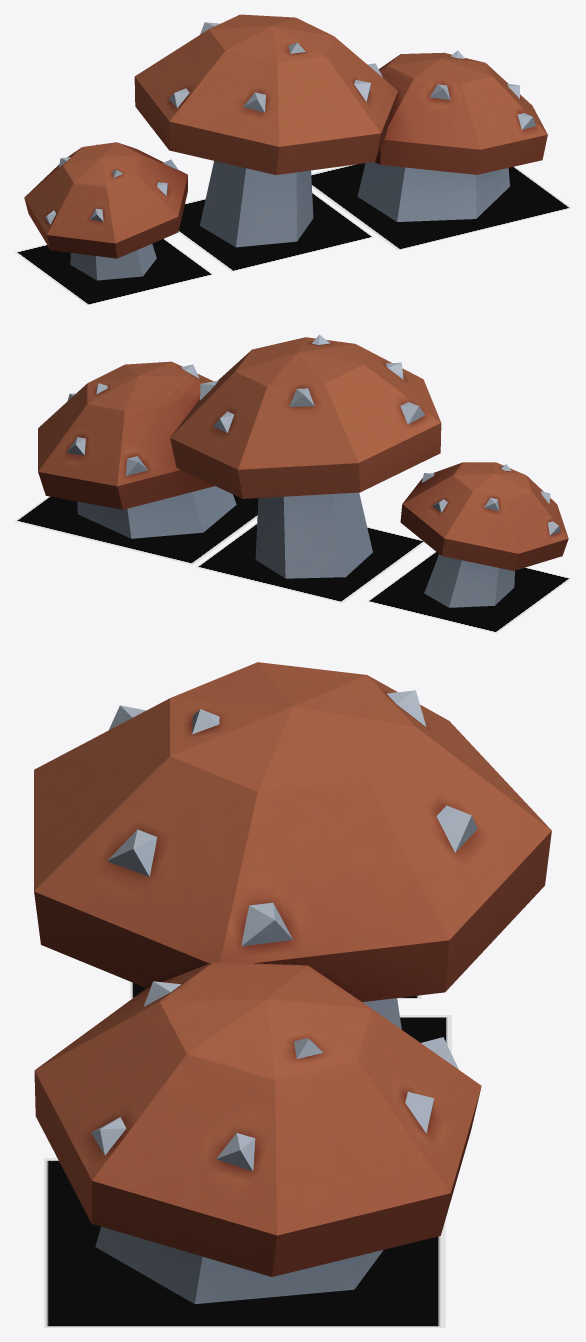
The model's file is 3x1_mushrooms.FBX.
The picture shows the model from 3 angles, top to bottom: view 1: azimuth 30°, elevation 25°; view 2: azimuth 150°, elevation 25°; view 3: azimuth 270°, elevation 25°; orthographic projection. The views are drawn at different scales.
Parts seen in each view (by area): view 1: 3x1_mushrooms, 3x1_mushrooms_soft_shadow; view 2: 3x1_mushrooms, 3x1_mushrooms_soft_shadow; view 3: 3x1_mushrooms, 3x1_mushrooms_soft_shadow.
Boxes of the visible parts, x1,y1,x2,y2 form: 3x1_mushrooms: (24, 14, 547, 280); 3x1_mushrooms_soft_shadow: (14, 163, 571, 305); 3x1_mushrooms: (38, 334, 568, 607); 3x1_mushrooms_soft_shadow: (14, 494, 571, 633); 3x1_mushrooms: (34, 662, 551, 1304); 3x1_mushrooms_soft_shadow: (44, 981, 451, 1327).
Size of the model in its own units: 3164 by 1185 by 1417.
